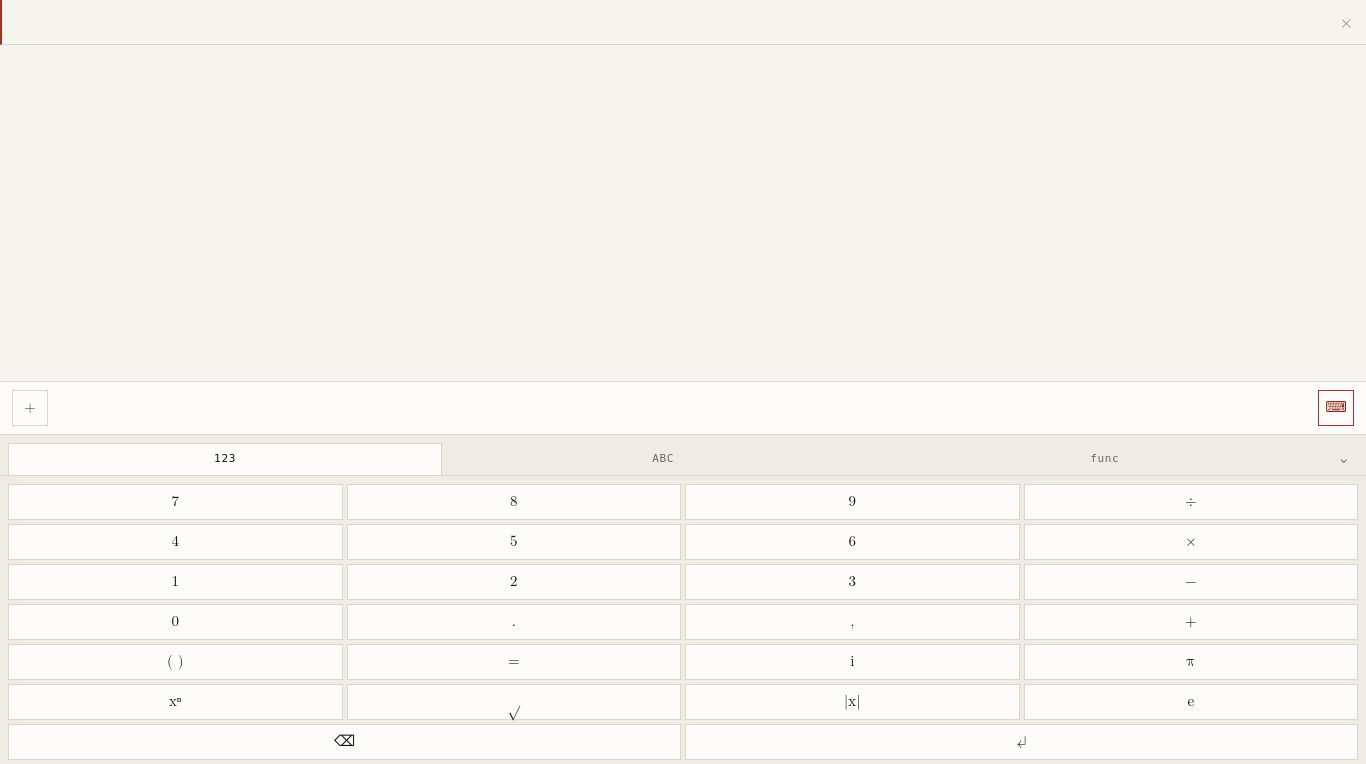
Test: page structure › offers live Fourier-series and sign input in transforms
The image size is (1366, 764).
Click the tab "func": (1105, 459) left=884, top=443, right=1325, bottom=475
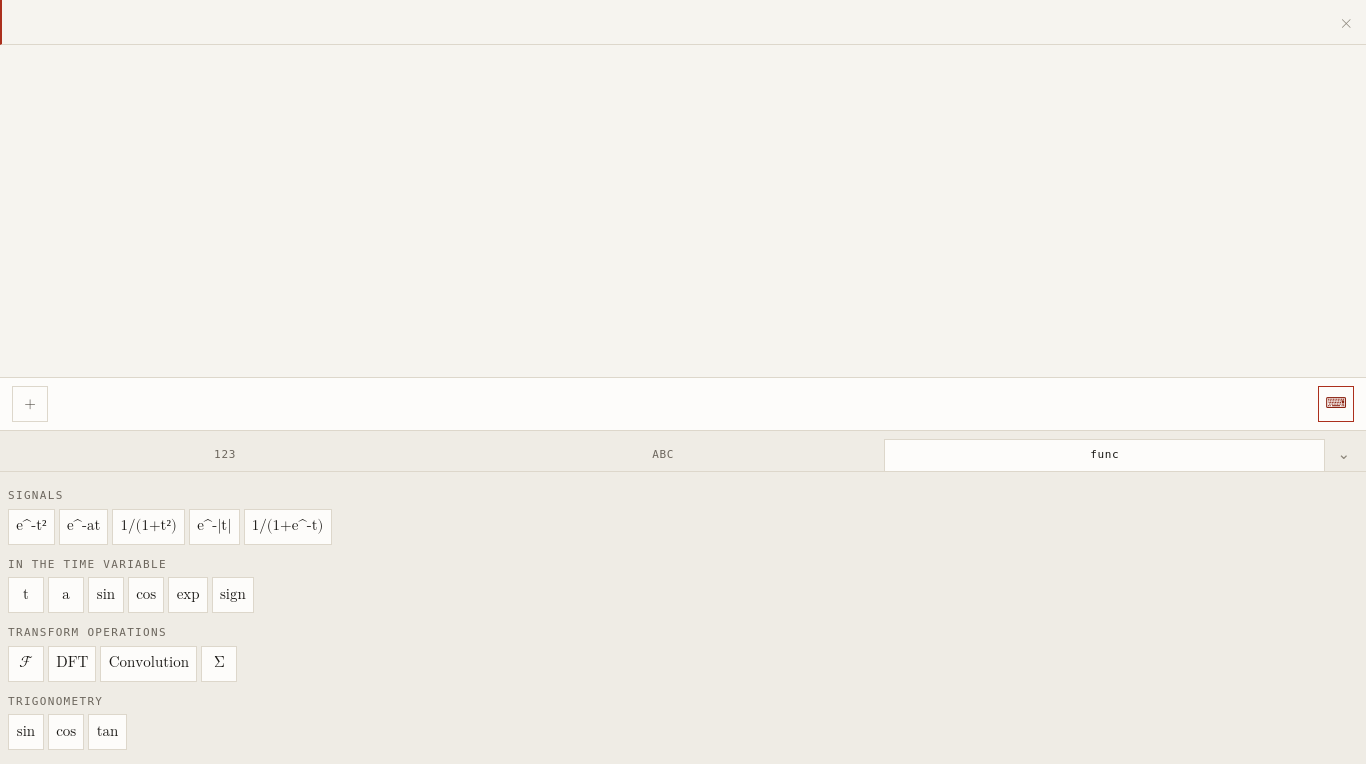
Expected: the button named "A numerical Fourier-series partial sum" is shown, left=201, top=646, right=237, bottom=682
Expected: the button with aria-label "The real sign function" is shown, left=212, top=577, right=254, bottom=613
